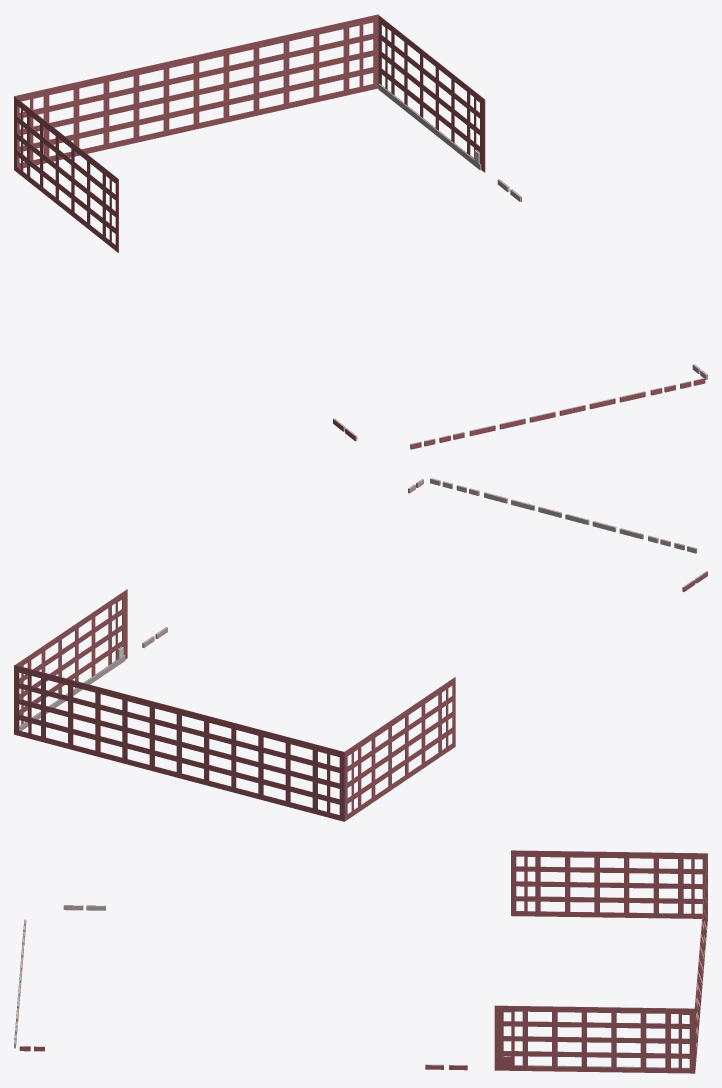
The model's file is 20160125Autodesk_Hospital_Parking Garage_2015_Existing_Garage_-_2nd_Level_IfcWallStandardCase.dae.
The picture shows the model from 3 angles, top to bottom: view 1: azimuth 30°, elevation 25°; view 2: azimuth 150°, elevation 25°; view 3: azimuth 270°, elevation 25°; orthographic projection. The views are drawn at different scales.
Parts seen in each view (by area): view 1: 2Dllb4ndP5l8WDm214kU__, 2Dllb4ndP5l8WDm214kUvk, 2Dllb4ndP5l8WDm214kUyq, 2SOxYbRm1AY9DZAX9JQ4vY; view 2: 2Dllb4ndP5l8WDm214kU__, 2Dllb4ndP5l8WDm214kUvk, 2Dllb4ndP5l8WDm214kUyq; view 3: 2Dllb4ndP5l8WDm214kUyq, 2Dllb4ndP5l8WDm214kUvk, 2Dllb4ndP5l8WDm214kU__.
Boxes of the visible parts, left/top/right/bottom form: 2Dllb4ndP5l8WDm214kU__: left=14, top=14, right=378, bottom=169; 2Dllb4ndP5l8WDm214kUvk: left=14, top=96, right=118, bottom=252; 2Dllb4ndP5l8WDm214kUyq: left=378, top=15, right=485, bottom=172; 2SOxYbRm1AY9DZAX9JQ4vY: left=378, top=83, right=481, bottom=170; 2Dllb4ndP5l8WDm214kU__: left=14, top=665, right=344, bottom=821; 2Dllb4ndP5l8WDm214kUvk: left=344, top=677, right=455, bottom=821; 2Dllb4ndP5l8WDm214kUyq: left=14, top=589, right=127, bottom=734; 2Dllb4ndP5l8WDm214kUyq: left=494, top=1005, right=695, bottom=1073; 2Dllb4ndP5l8WDm214kUvk: left=511, top=850, right=707, bottom=918; 2Dllb4ndP5l8WDm214kU__: left=694, top=853, right=707, bottom=1069.
Size of the model in its own units: 72.1 by 129 by 13.41.
